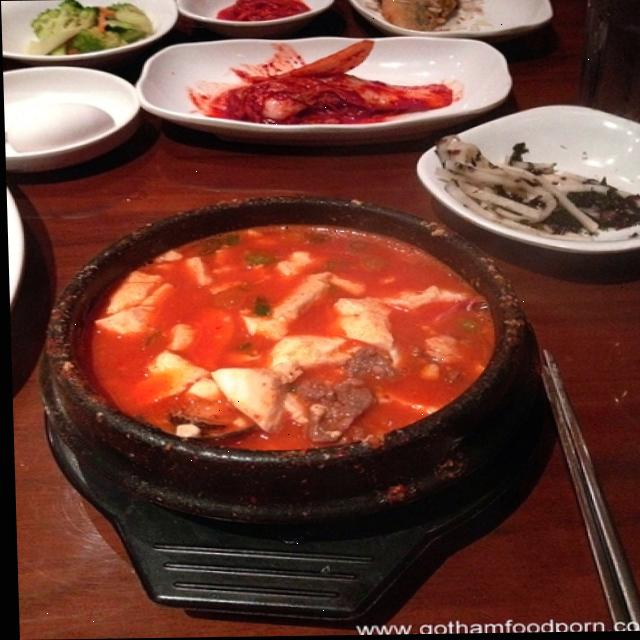汤锅炖物: (41, 186, 555, 604)
